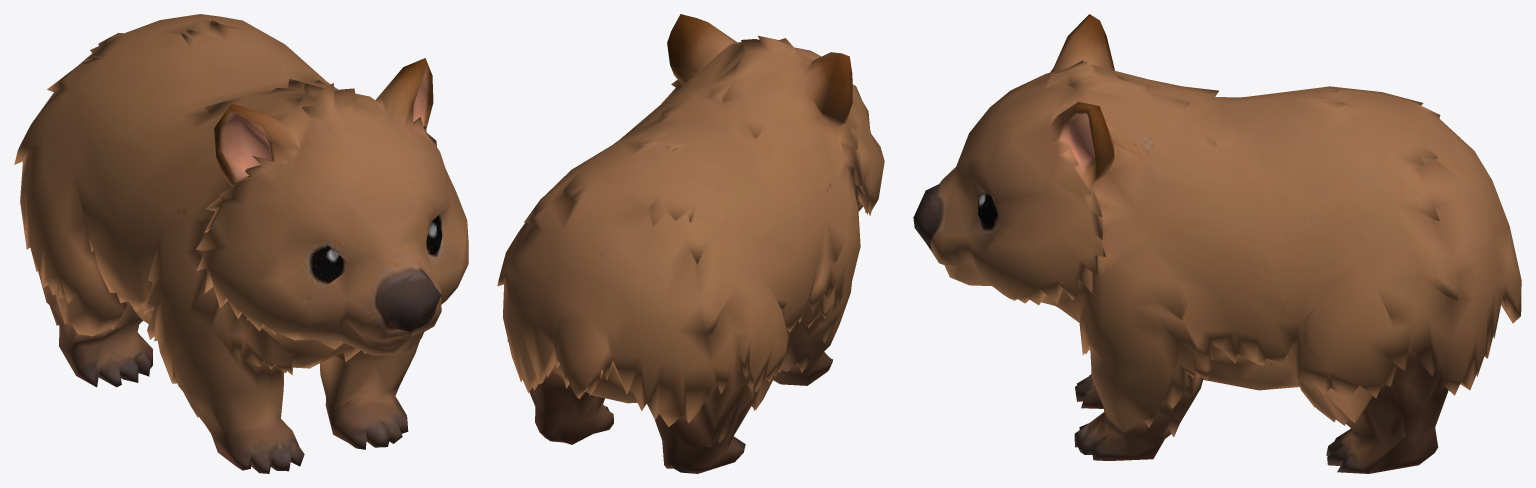
The model's file is wombat.glb.
3 views of the same model, side by side, from view 1: azimuth 30°, elevation 25°; view 2: azimuth 150°, elevation 25°; view 3: azimuth 270°, elevation 25° (orthographic). The views are drawn at different scales.
Visible parts, largest first — view 1: model; view 2: model; view 3: model.
Part boxes in pixels (x1=…): model: x1=14, y1=14, x2=468, y2=473; model: x1=497, y1=14, x2=884, y2=473; model: x1=913, y1=14, x2=1521, y2=473.
Bounding box in the file's own units: 1.04 × 1.25 × 1.9.
1 material, 1 textured.
